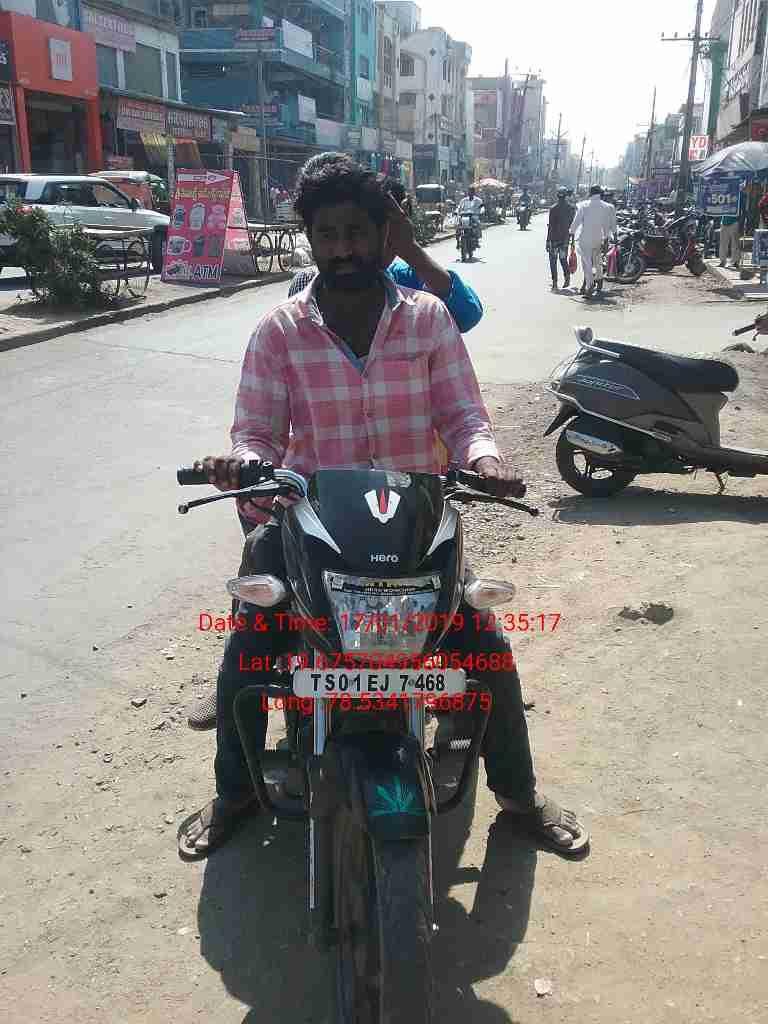plate: (293, 663, 469, 703)
